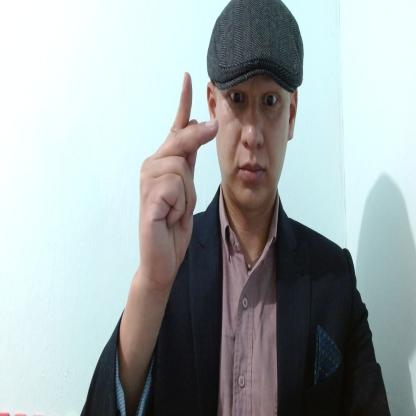P: (138, 67, 219, 289)
